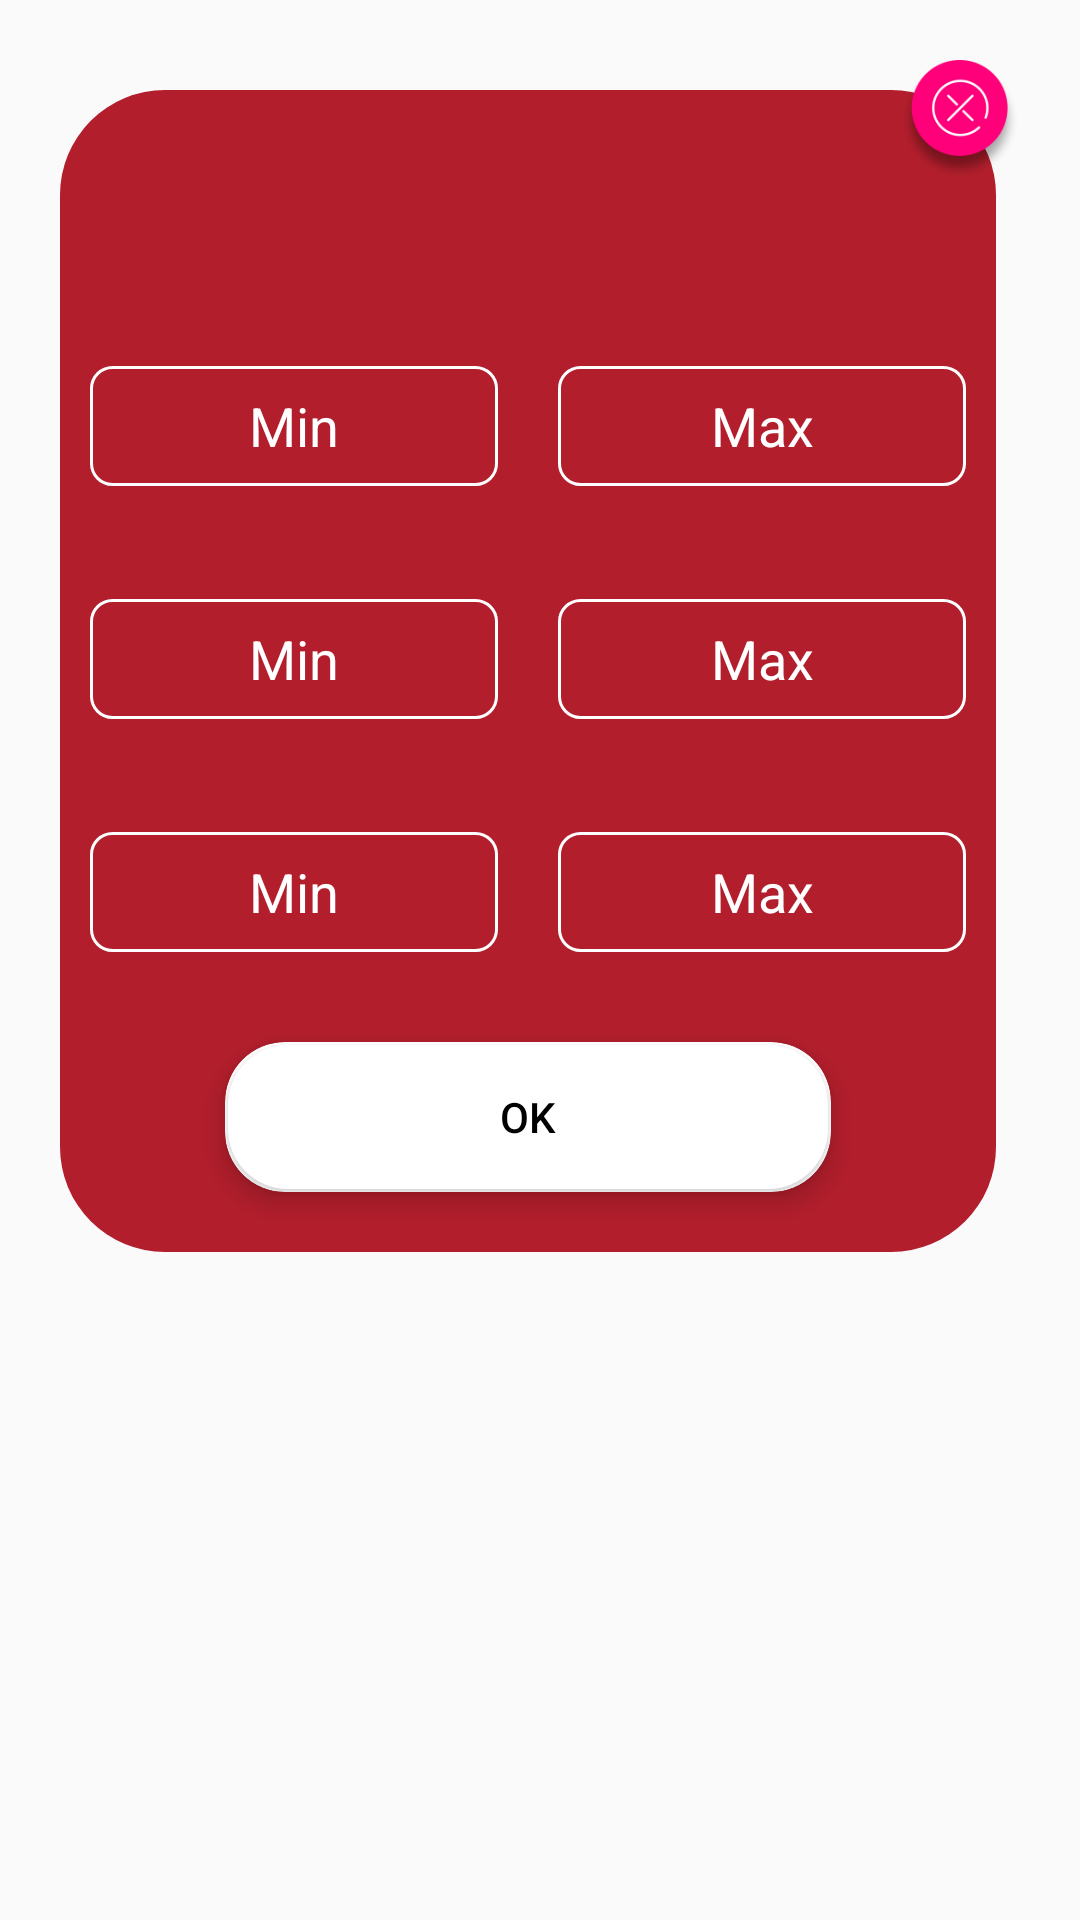

Screen size 1080px x 1920px. Icon name, then its center in pixels as (x,y):
cross: (955,120)
